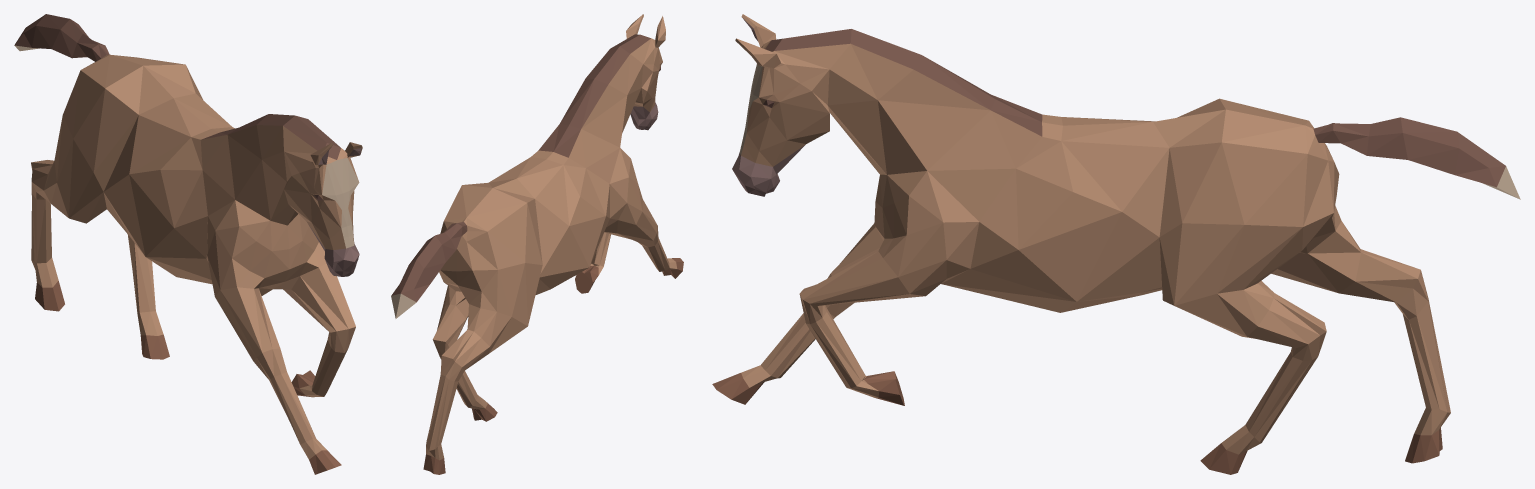
File: Horse.glb
3 renders of one model, left to right at view 1: azimuth 30°, elevation 25°; view 2: azimuth 150°, elevation 25°; view 3: azimuth 270°, elevation 25°, orthographic. The views are drawn at different scales.
Visible parts, largest first — view 1: mesh_0; view 2: mesh_0; view 3: mesh_0.
Part boxes in pixels (x1,y1,x2,y2): mesh_0: [14, 14, 362, 474]; mesh_0: [391, 14, 683, 474]; mesh_0: [712, 14, 1520, 474].
Bounding box in the file's own units: 60.4 × 175 × 288.
